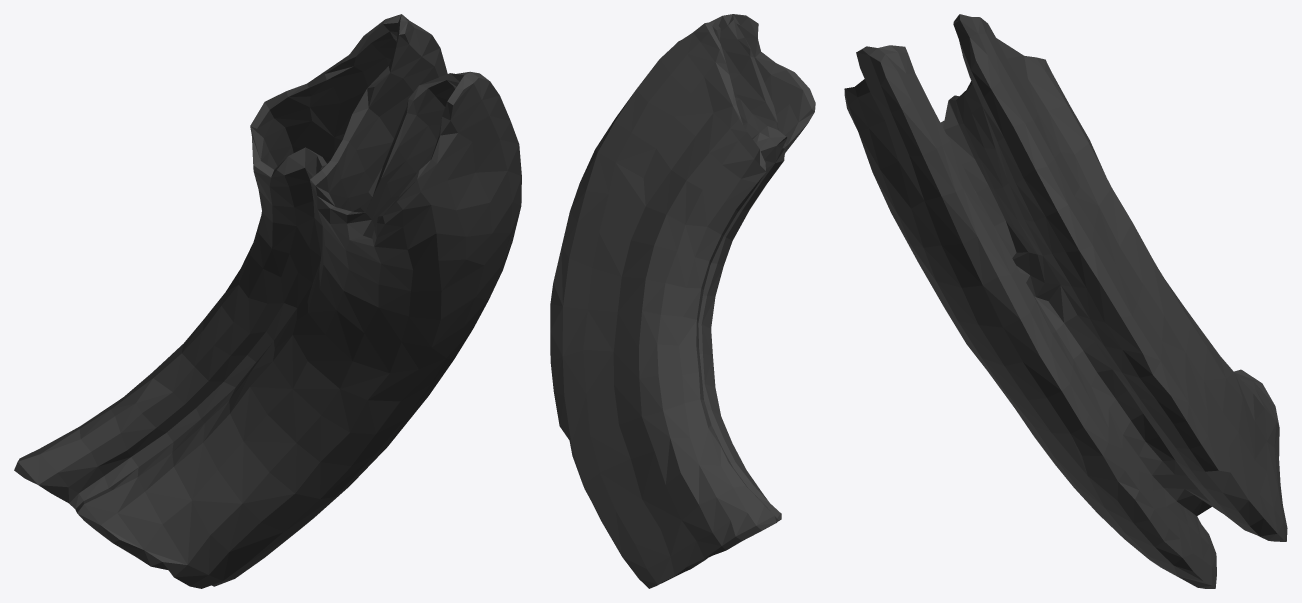
The model's file is Upper_M1.glb.
3 views of the same model, side by side, from view 1: azimuth 30°, elevation 25°; view 2: azimuth 150°, elevation 25°; view 3: azimuth 270°, elevation 25° (orthographic). The views are drawn at different scales.
Visible parts, largest first — view 1: Upper_M1; view 2: Upper_M1; view 3: Upper_M1.
Boxes of the visible parts, x1,y1,x2,y2 form: Upper_M1: (14,14,521,588); Upper_M1: (550,14,815,588); Upper_M1: (844,14,1287,588).
Bounding box in the file's own units: 0.5837 × 0.9446 × 0.6316.
Materials: 1 (1 with a texture image).
